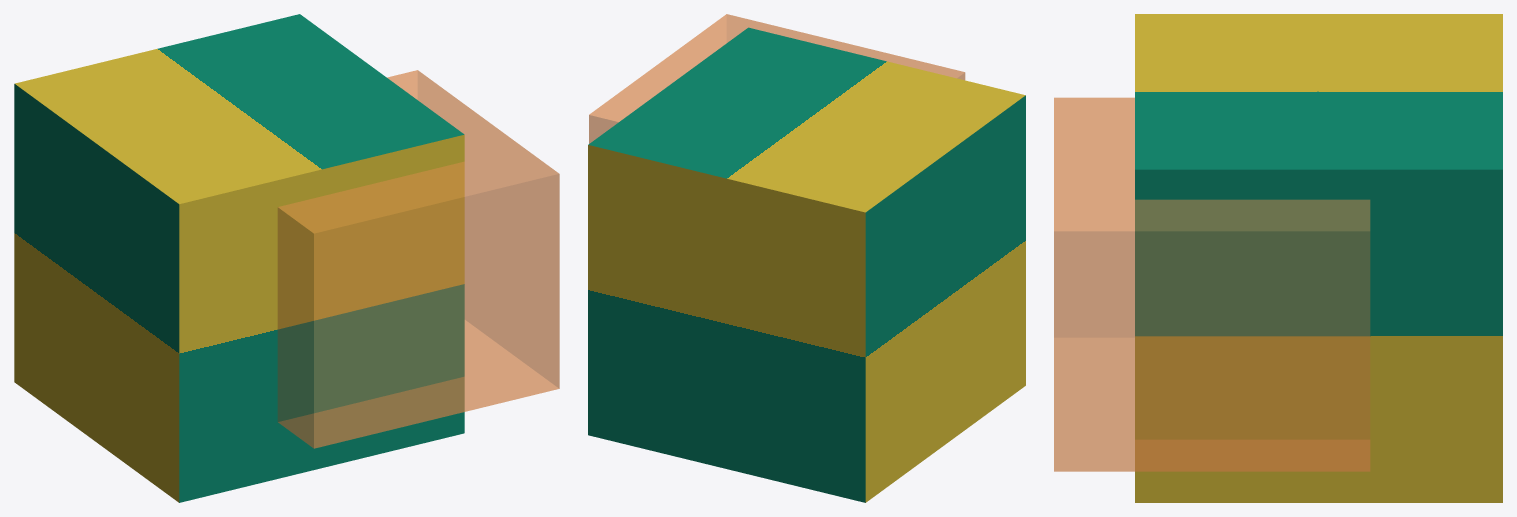
Rendered from 透明材质.glb.
3 views of the same model, side by side, from view 1: azimuth 30°, elevation 25°; view 2: azimuth 150°, elevation 25°; view 3: azimuth 270°, elevation 25° (orthographic). The views are drawn at different scales.
Visible parts, largest first — view 1: CheckerCube, Amber blend; view 2: CheckerCube, Amber blend; view 3: CheckerCube, Amber blend.
Part boxes in pixels (x1,y1,x2,y2): CheckerCube: [14, 14, 464, 502]; Amber blend: [278, 70, 559, 448]; CheckerCube: [588, 27, 1025, 502]; Amber blend: [589, 14, 965, 143]; CheckerCube: [1135, 14, 1502, 502]; Amber blend: [1054, 97, 1370, 471].
Size of the model in its own units: 2.41 by 2 by 2.44.
2 materials, 1 textured.
